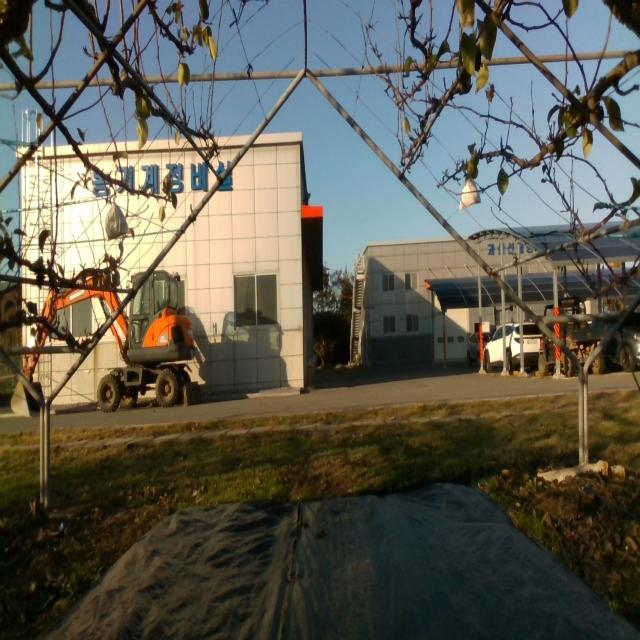pearbags: (105, 200, 130, 241), (459, 177, 481, 210)
